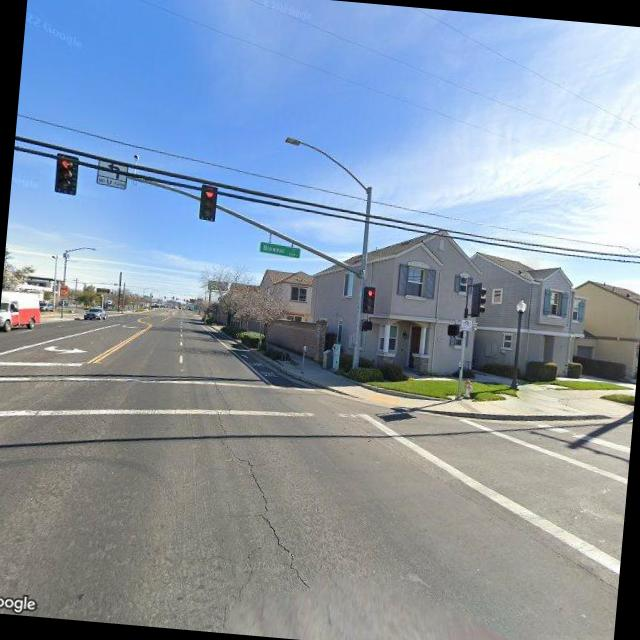crack: (195, 398, 328, 595)
